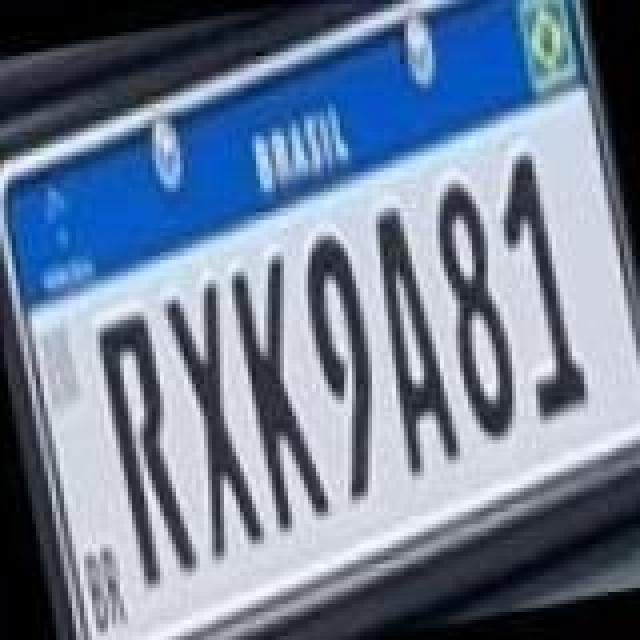1: (484, 140, 592, 420)
8: (418, 166, 526, 446)
9: (292, 224, 400, 504)
A: (356, 192, 460, 472)
K: (222, 248, 334, 540)
R: (86, 302, 194, 590)
X: (154, 272, 270, 568)
